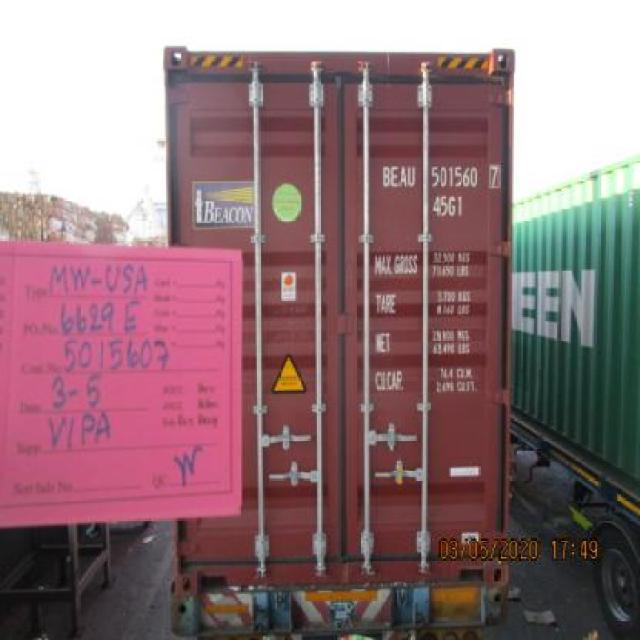ISO: (433, 192, 466, 218)
container_number: (379, 165, 502, 189)
